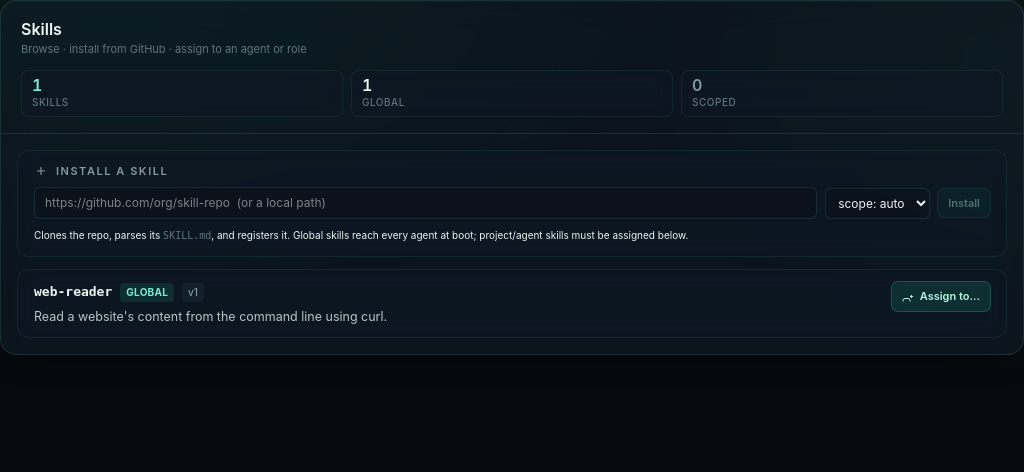
Scenario: SkillsView — assign to an agent/role › surfaces a friendly bind error (ok=false) without crashing
Click the button "Assign to…".
click(941, 297)  # box [892,282,990,311]
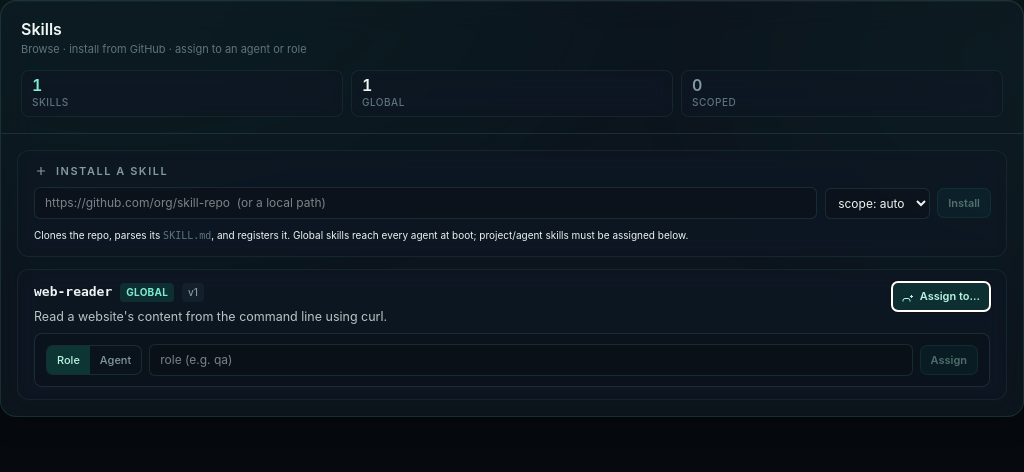
Type "qa" into the field named "role name".
click(531, 360); type("qa")  # box [149,344,912,376]
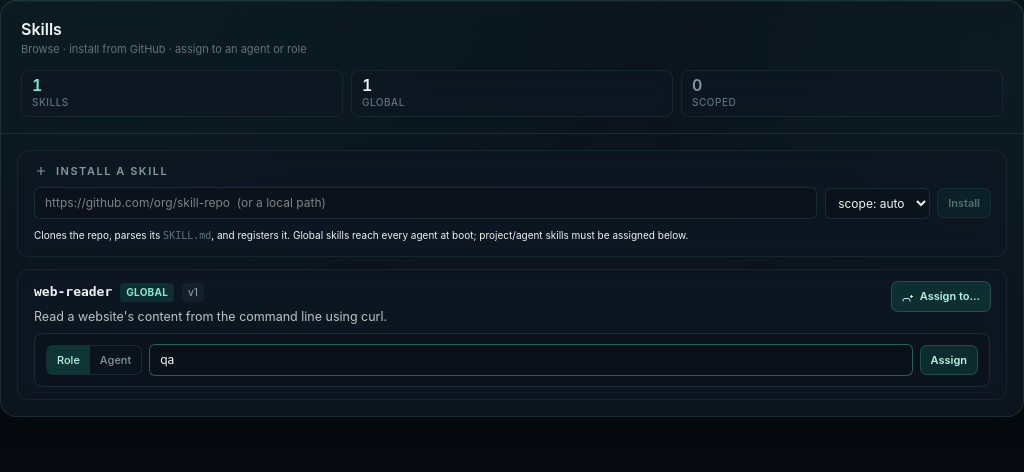
Click the button "Assign".
click(949, 360)  # box [920,346,977,374]
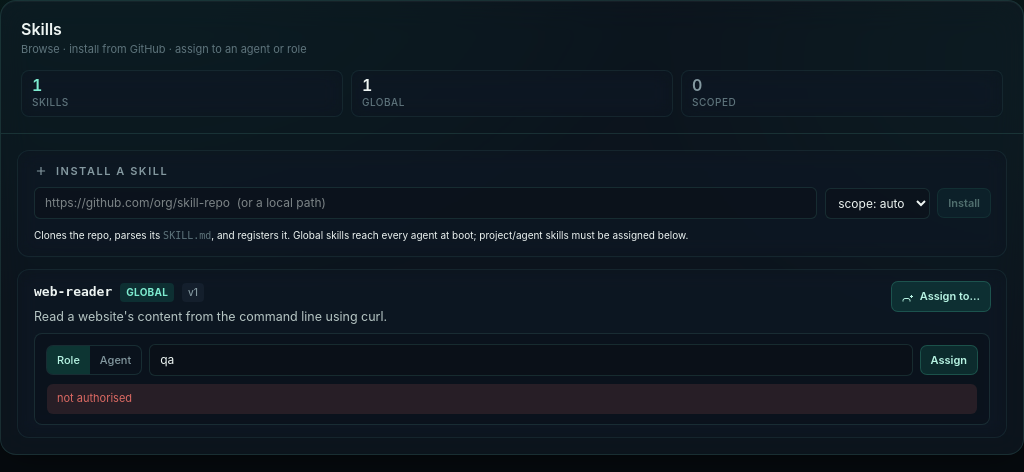
Expected: the text "not authorised" is shown, [47,384,977,414]
